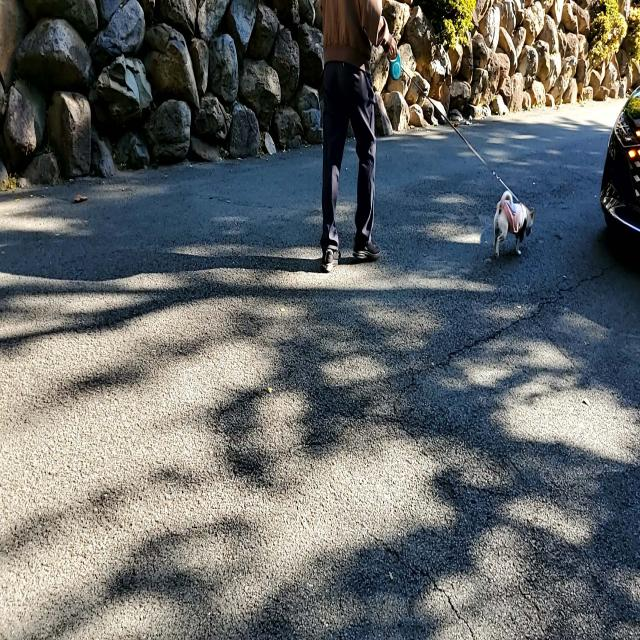Leashed_Dog: (354, 36, 536, 262)
